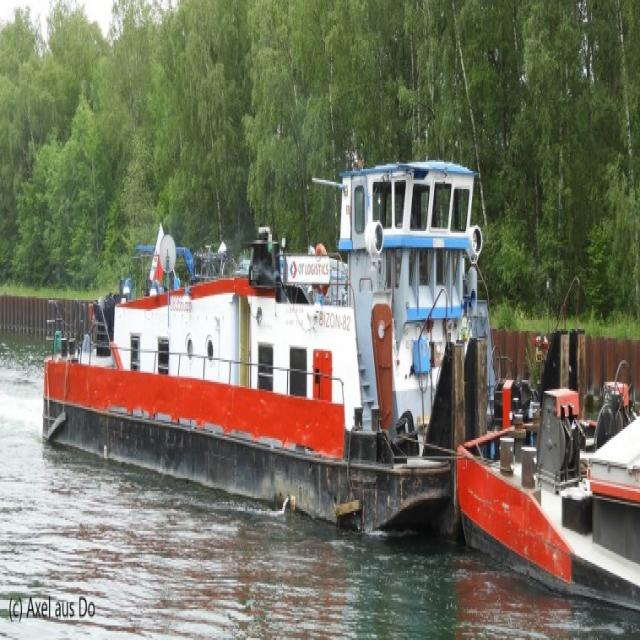tugboat: (40, 146, 594, 554)
